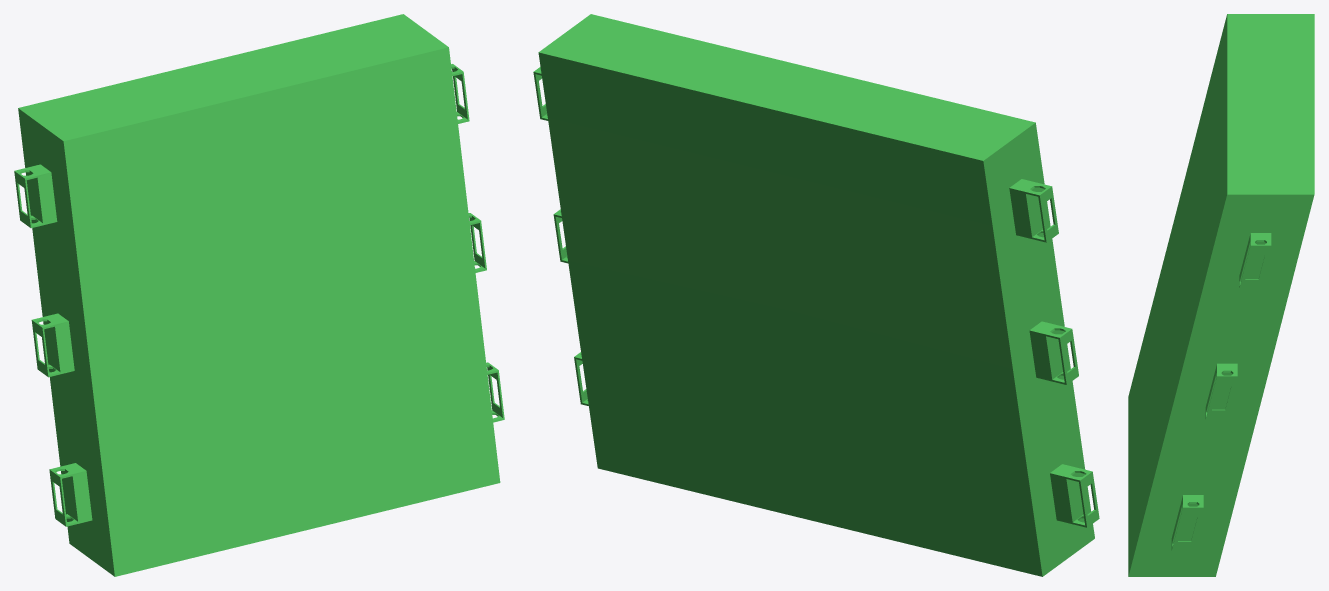
The model's file is SuitRack.fbx.
3 views of the same model, side by side, from view 1: azimuth 30°, elevation 25°; view 2: azimuth 150°, elevation 25°; view 3: azimuth 270°, elevation 25° (orthographic). The views are drawn at different scales.
Visible parts, largest first — view 1: Cube.056; view 2: Cube.056; view 3: Cube.056.
Boxes of the visible parts, x1,y1,x2,y2 form: Cube.056: (14,14,504,576); Cube.056: (533,14,1099,576); Cube.056: (1128,14,1314,576).
Size of the model in its own units: 32508 by 28185 by 12431.
